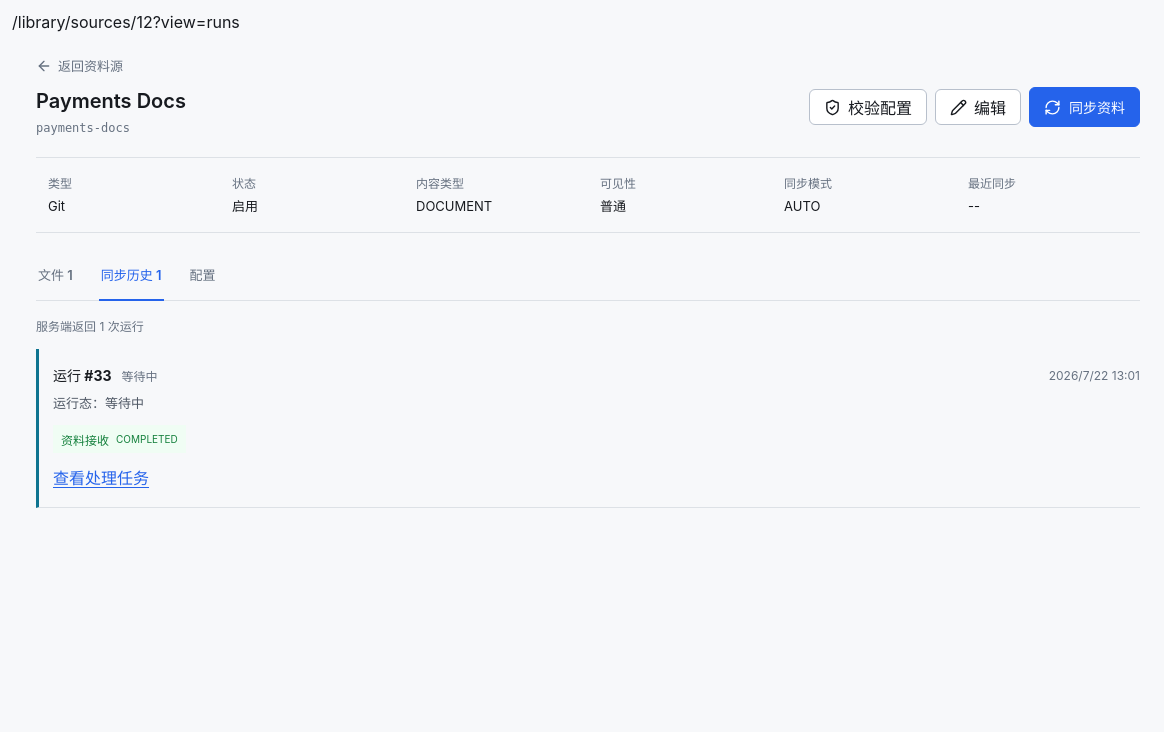
it: source detail page › deep-links to server runs, files and redacted configuration without invented batches
The image size is (1164, 732).
Expected: the heading "Payments Docs" is shown, [36,87,186,115]
Expected: the text "运行 #33" is shown, [53,365,112,385]
Click the tab "文件 1".
click(55, 274)  # box [36,249,75,300]
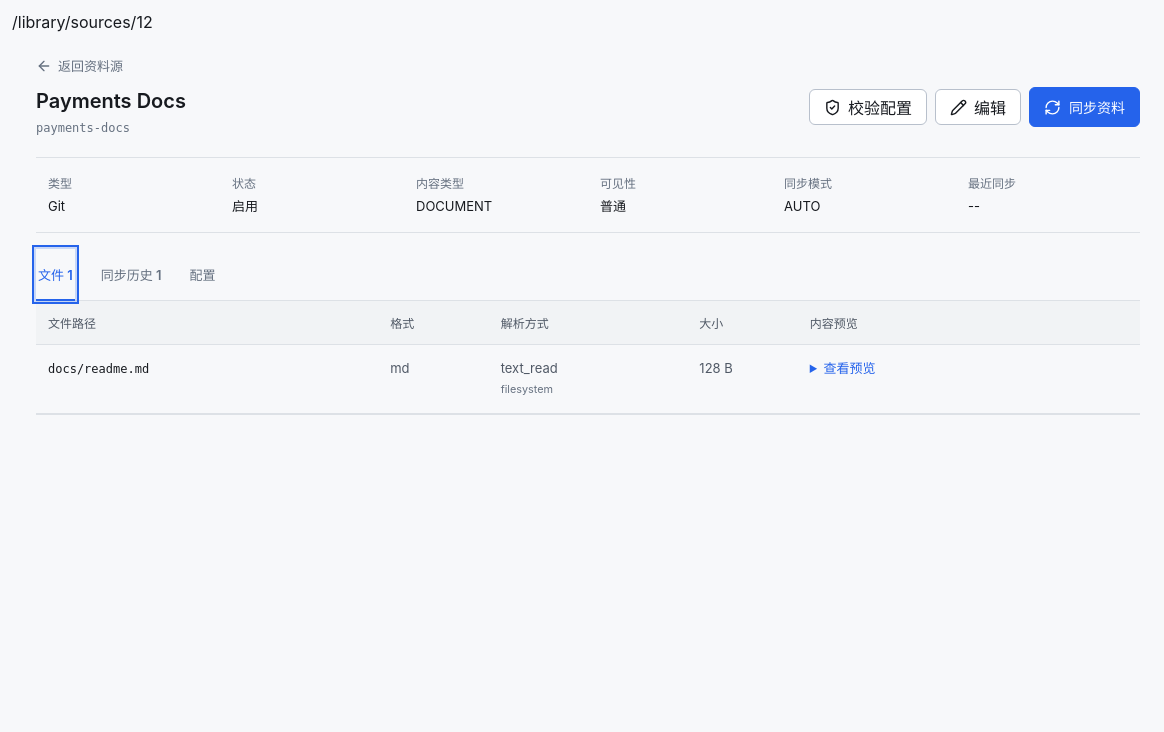
Expected: the text "docs/readme.md" is shown, [48,362,149,376]
Click the heading "查看预览".
click(850, 368)  # box [824,360,876,376]
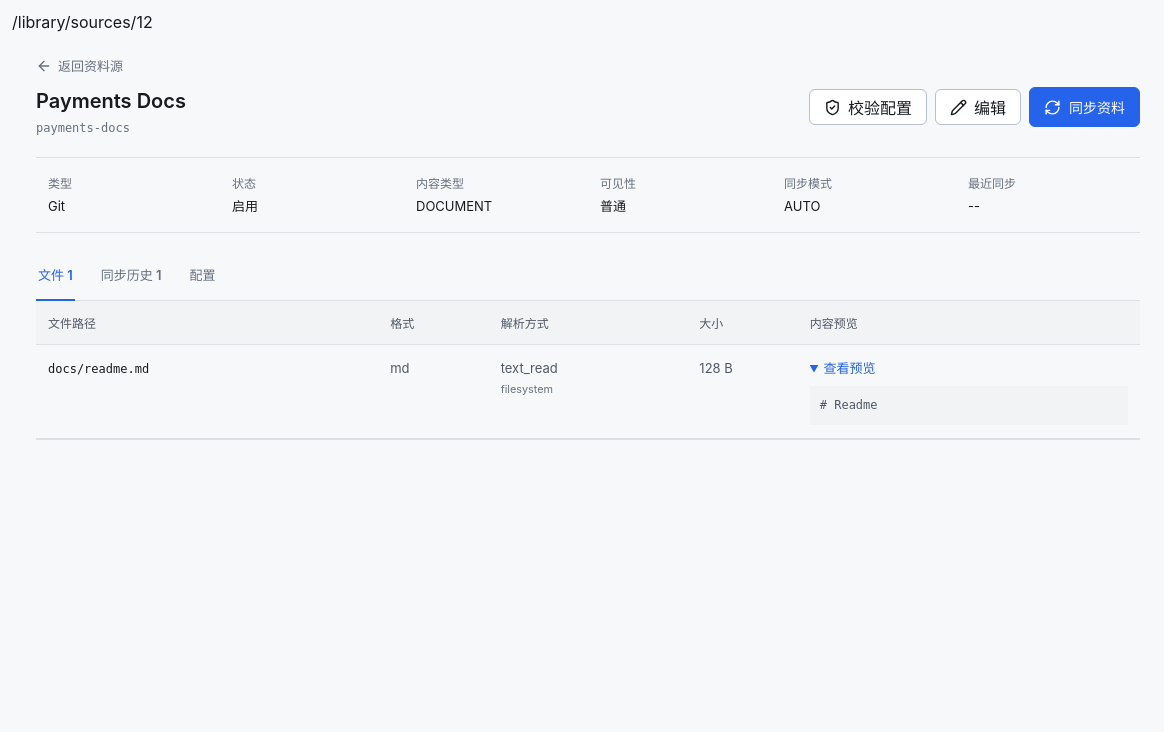
Expected: the text "# Readme" is shown, [810,386,1128,425]
Click the tab "配置".
click(203, 274)  # box [188,249,218,300]
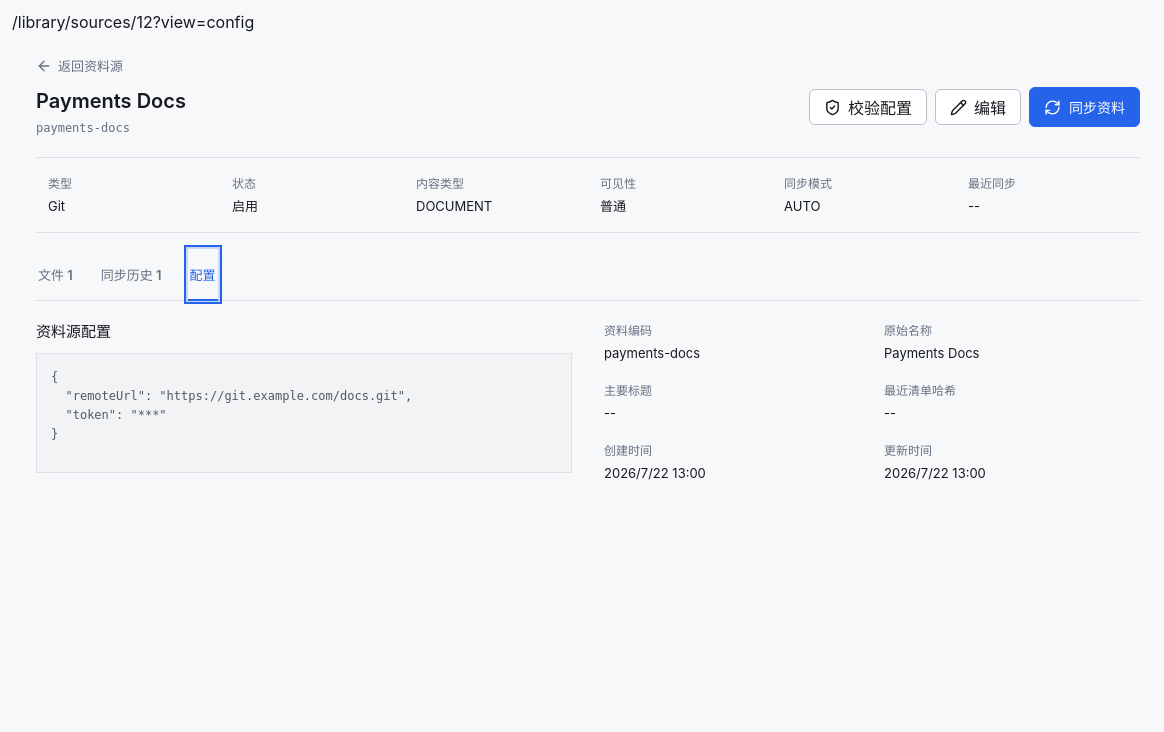
Expected: the text named "location" shows "view=config", [153,12,254,32]
